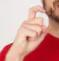anticlockwise: (8, 5, 50, 53)
